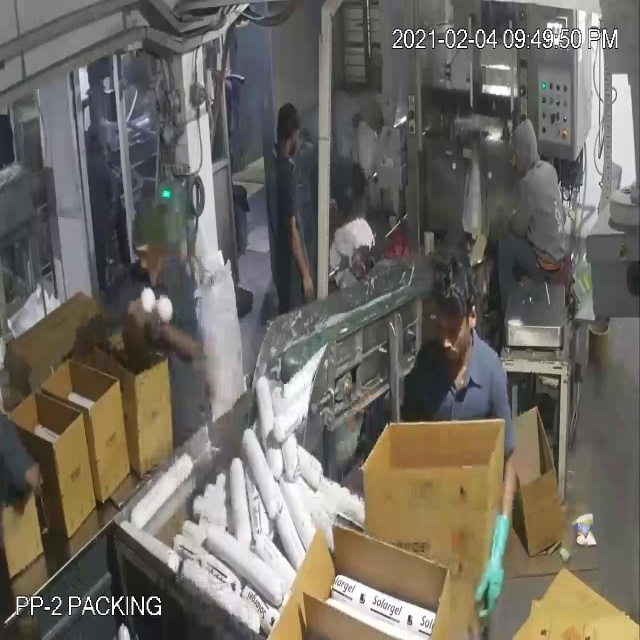Guantes: (472, 475, 518, 632)
Sin_guantes: (137, 292, 199, 376), (281, 204, 319, 313)
